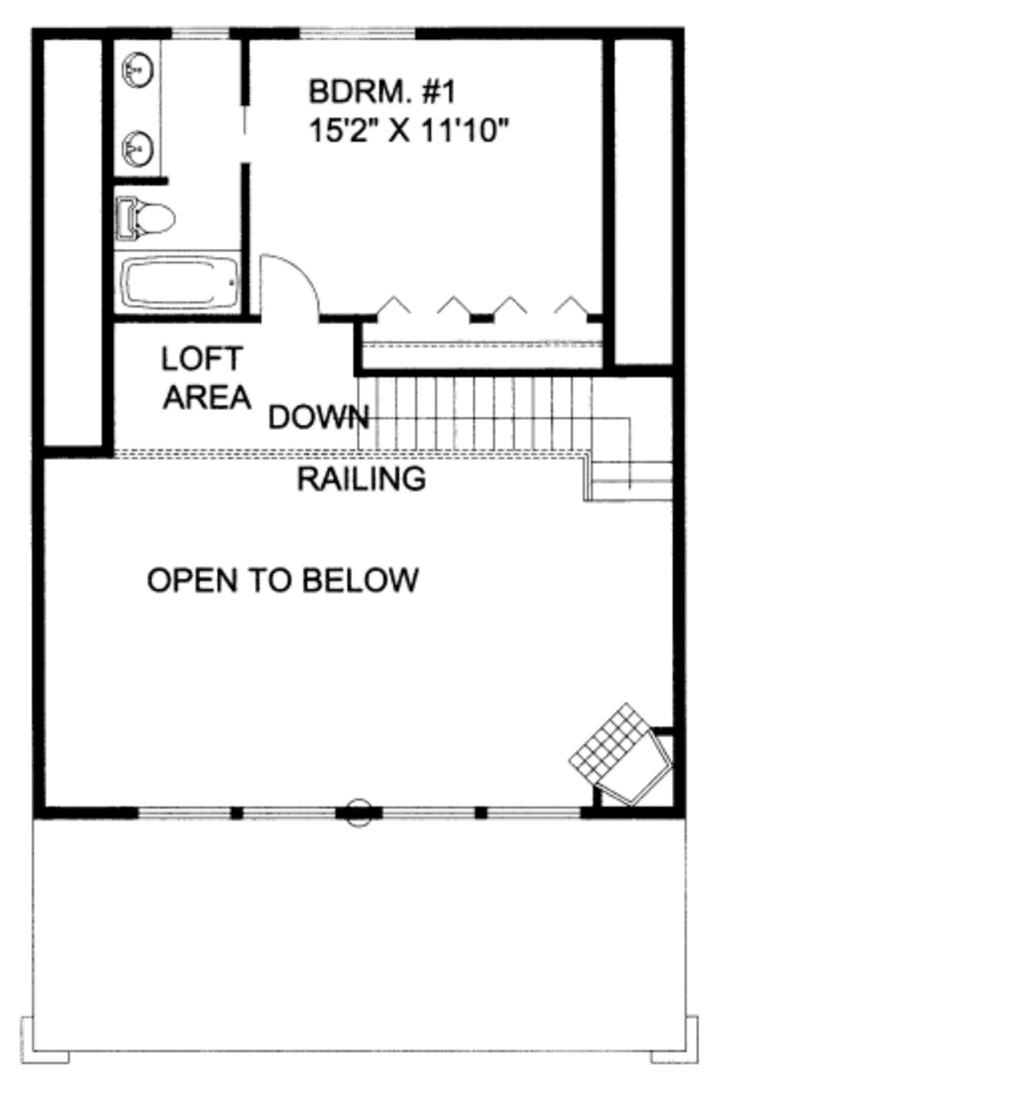door: (249, 242, 325, 330)
large_sink: (107, 177, 189, 249)
small_sink: (100, 44, 165, 185)
stairs: (352, 370, 680, 514)
tub: (107, 250, 239, 322)
window: (492, 794, 582, 827), (137, 795, 239, 822), (234, 799, 345, 820), (380, 800, 487, 819), (299, 24, 419, 40), (170, 20, 235, 47)
